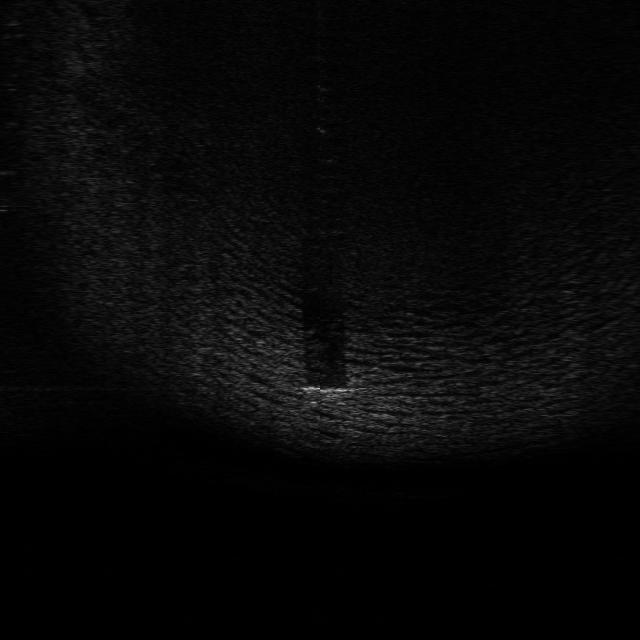cube: (302, 381, 347, 411)
